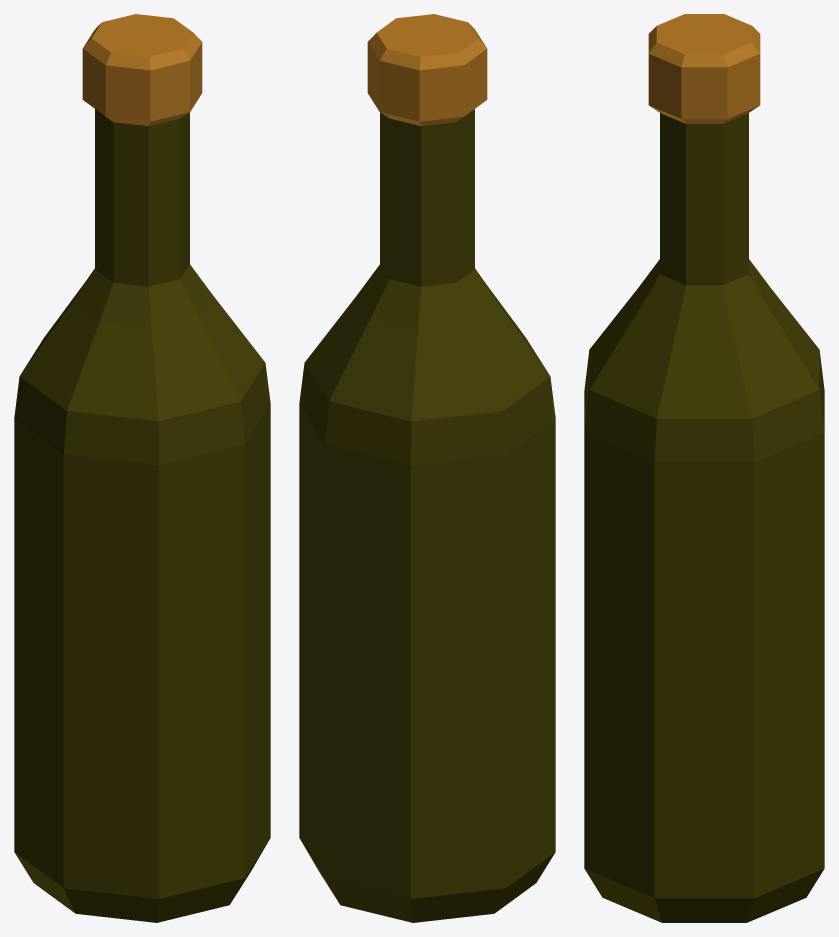
Rendered from SM_Clutter_Bottle_Olive_01.obj.
The picture shows the model from 3 angles, left to right: view 1: azimuth 30°, elevation 25°; view 2: azimuth 150°, elevation 25°; view 3: azimuth 270°, elevation 25°; orthographic projection.
Parts seen in each view (by area): view 1: SM_Clutter_Bottle_Olive_01; view 2: SM_Clutter_Bottle_Olive_01; view 3: SM_Clutter_Bottle_Olive_01.
Boxes of the visible parts, x1,y1,x2,y2 form: SM_Clutter_Bottle_Olive_01: (14, 14, 270, 922); SM_Clutter_Bottle_Olive_01: (299, 14, 555, 922); SM_Clutter_Bottle_Olive_01: (584, 14, 824, 922).
Bounding box in the file's own units: 0.0674 × 0.262 × 0.0674.
Materials: 1 (1 with a texture image).
